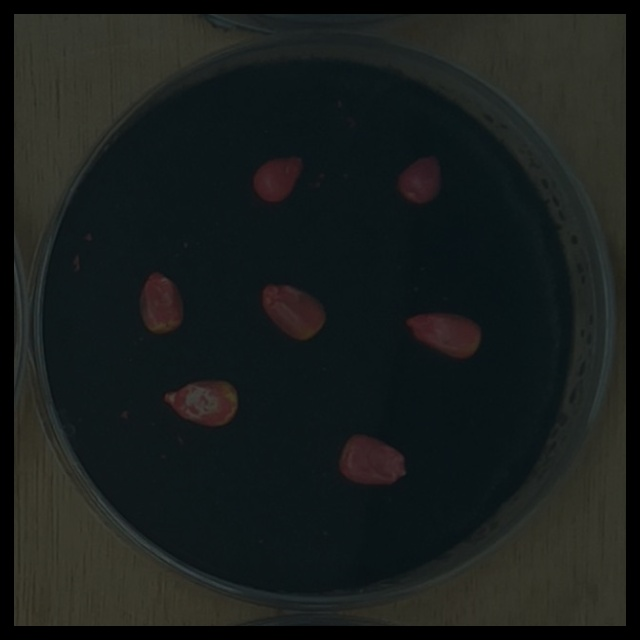Zea mays: (253, 276, 333, 347), (400, 306, 490, 366), (156, 372, 244, 431), (333, 427, 413, 491), (133, 263, 191, 341), (246, 149, 310, 210), (389, 147, 447, 211)
